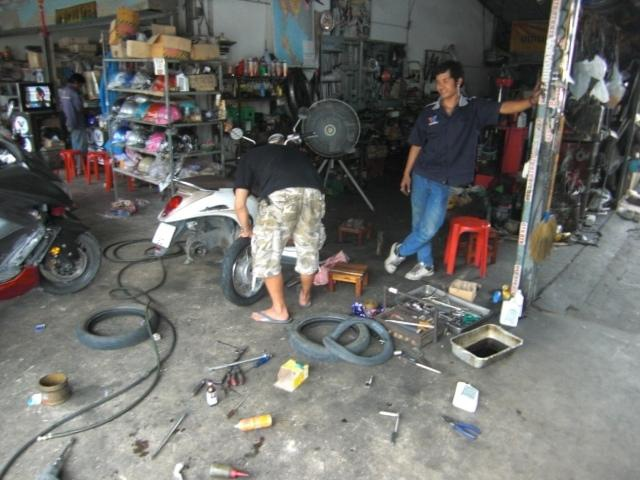non-vehicle: (148, 106, 326, 304), (0, 118, 100, 301)
